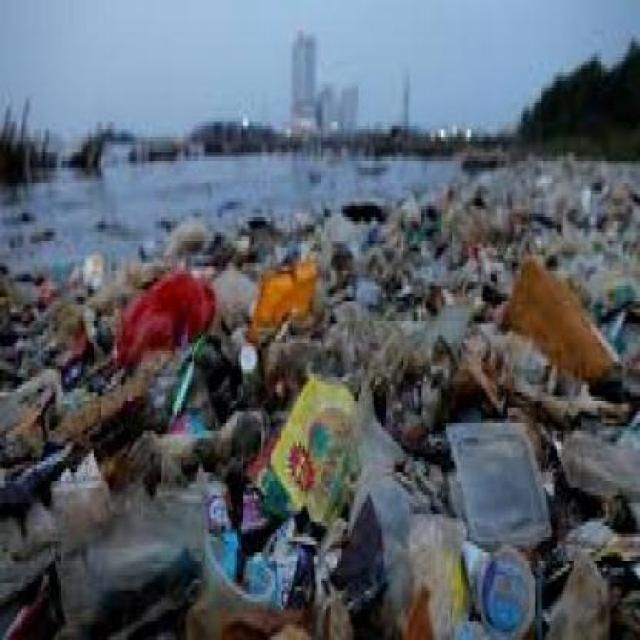garbage: (25, 256, 626, 625)
